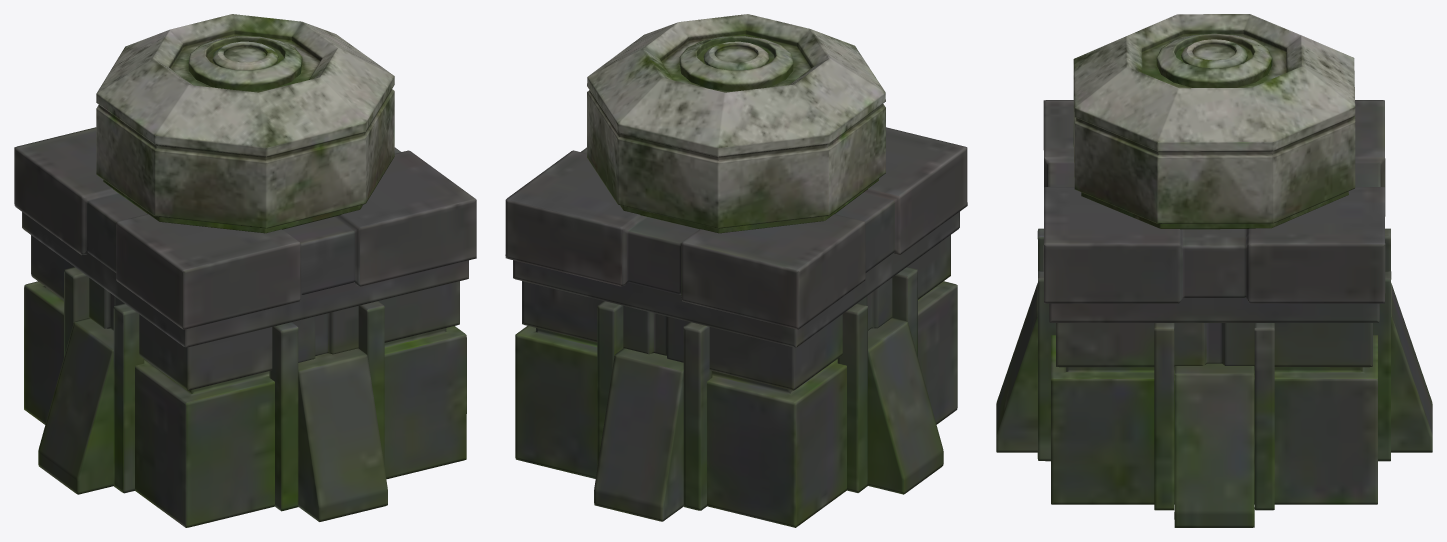
The model's file is SM_JewelBase_496ae3.glb.
The picture shows the model from 3 angles, left to right: view 1: azimuth 30°, elevation 25°; view 2: azimuth 150°, elevation 25°; view 3: azimuth 270°, elevation 25°; orthographic projection.
Size of the model in its own units: 0.4007 by 0.3899 by 0.4007.
Materials: 2 (2 with a texture image).
